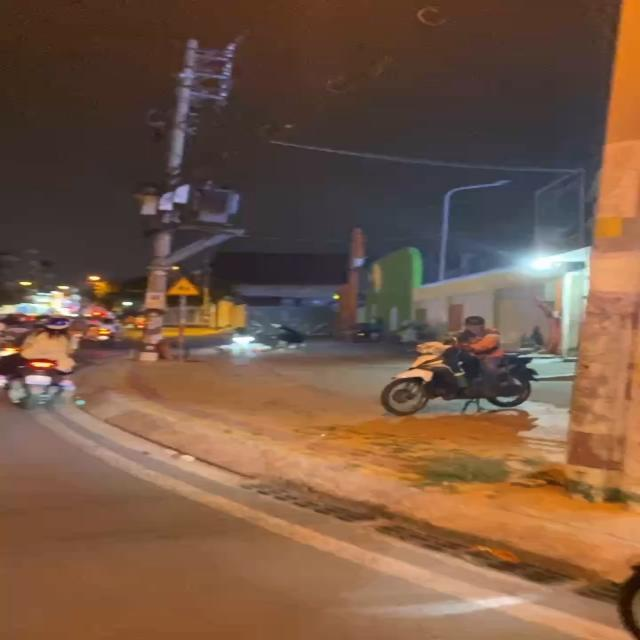225-chu-y-tre-em: (166, 278, 202, 295)
